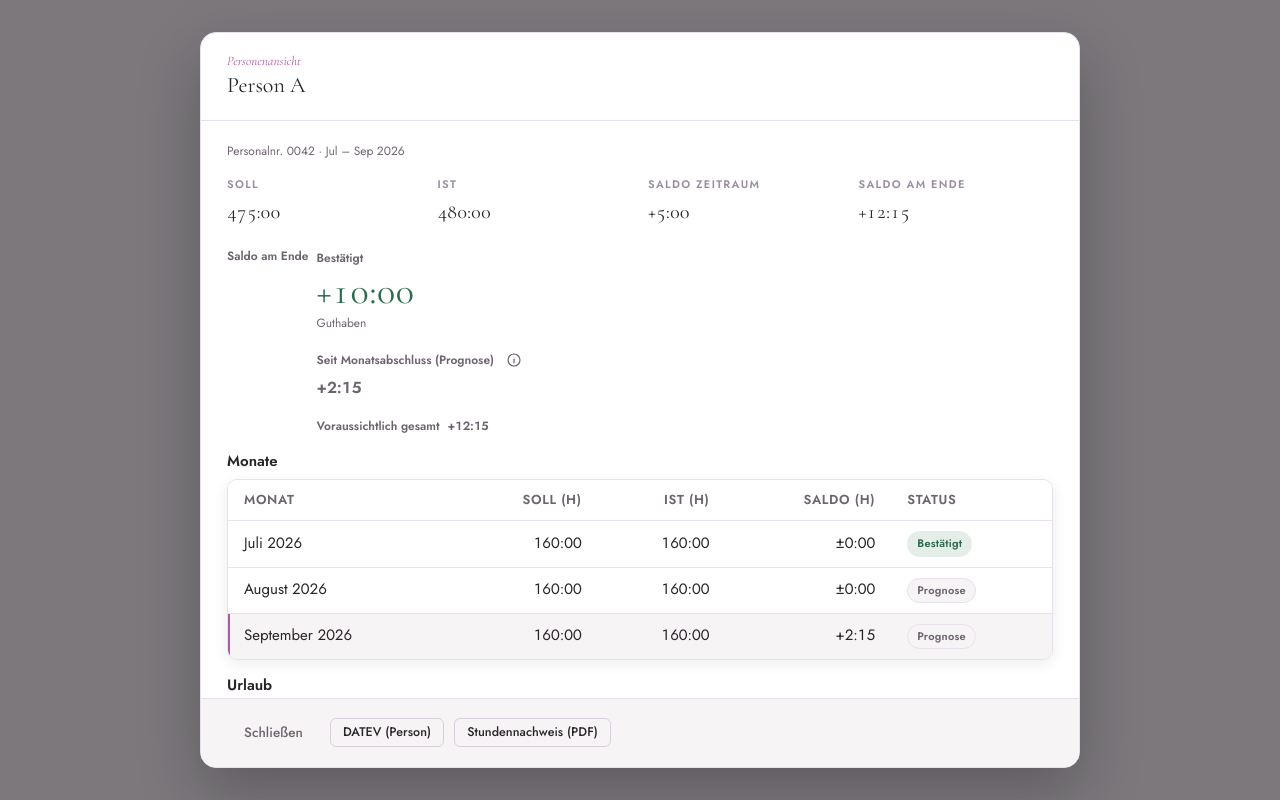
Scenario: PersonDrilldown - the day list (only with time-entry:read) › only the latest month's answer is shown when the selection changes while a read is open
Click the button "Juli 2026" at (273, 544), box x1=244 y1=532 x2=302 y2=556
(page scrolled)
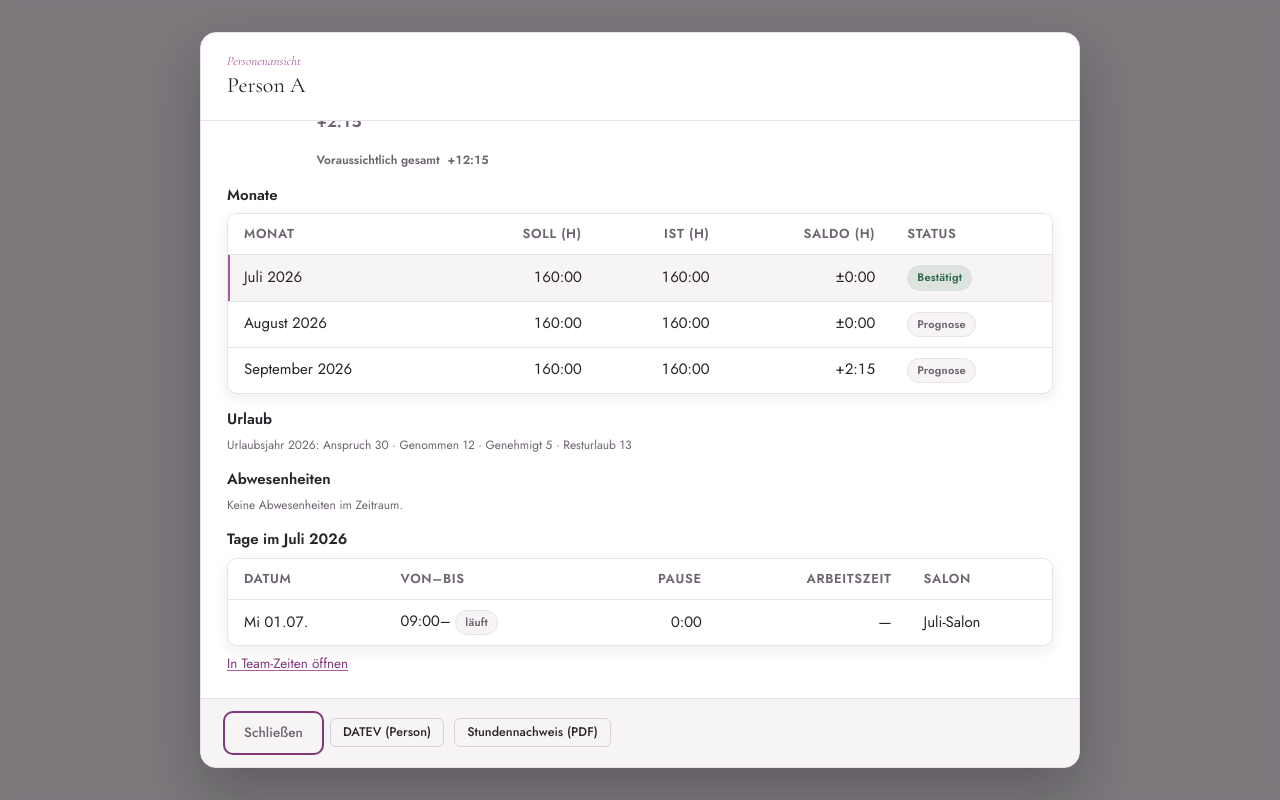
Now the text "Juli-Salon" is shown, box x1=908 y1=600 x2=1052 y2=645
